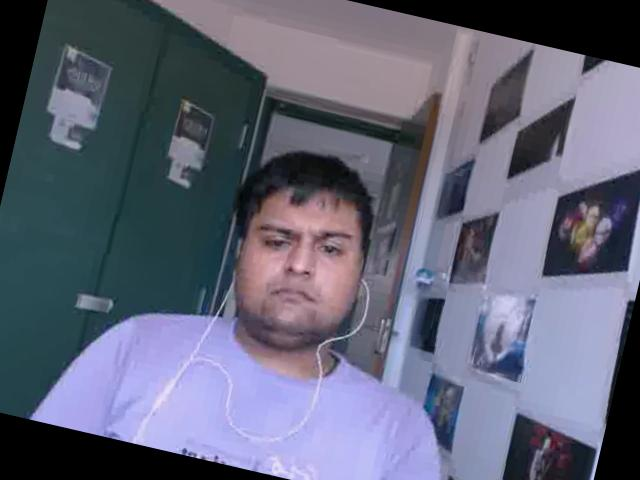bingung: (231, 175, 374, 342)
